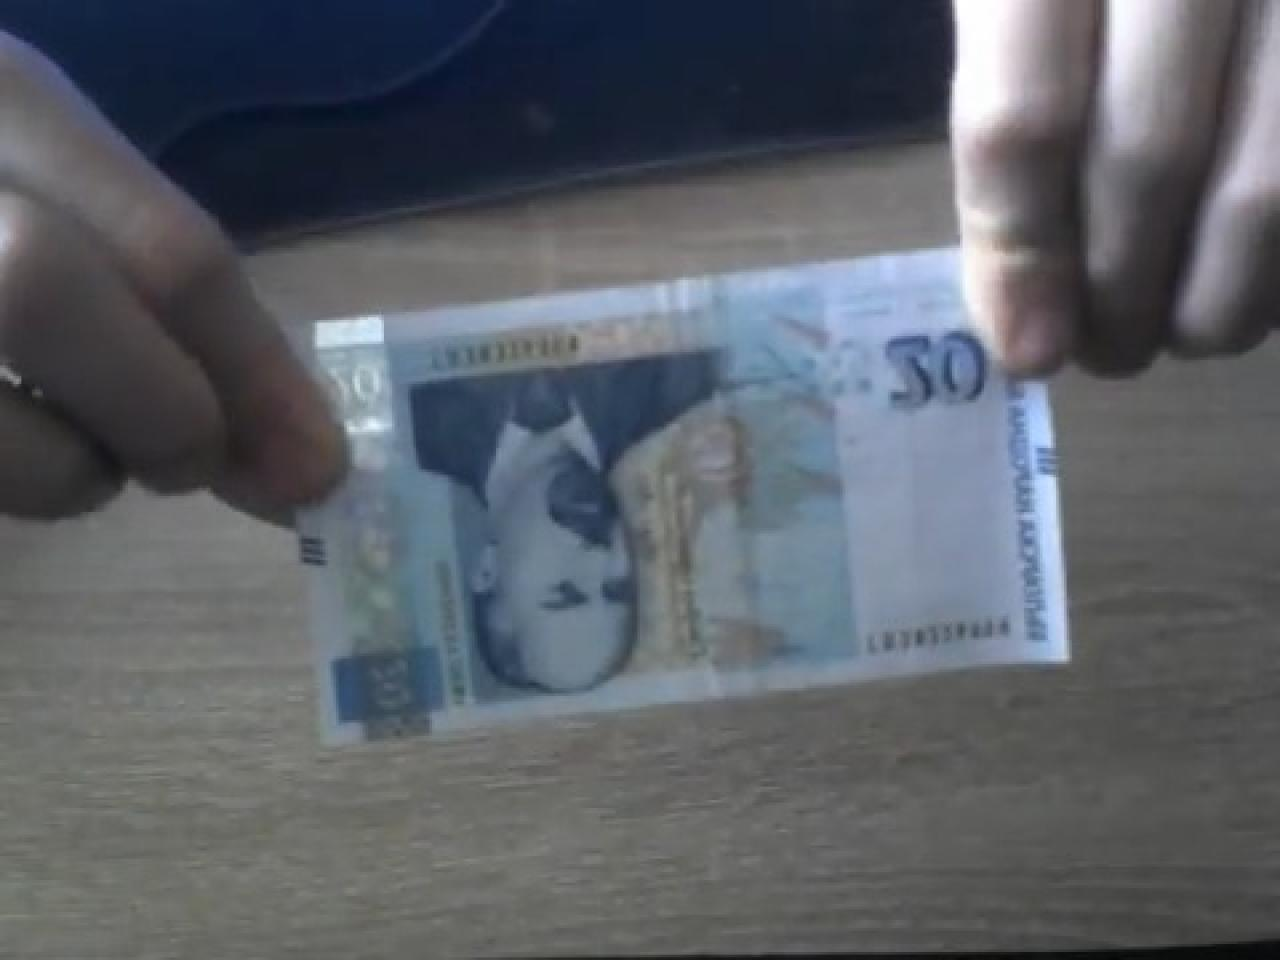20leva: (304, 277, 1013, 741)
